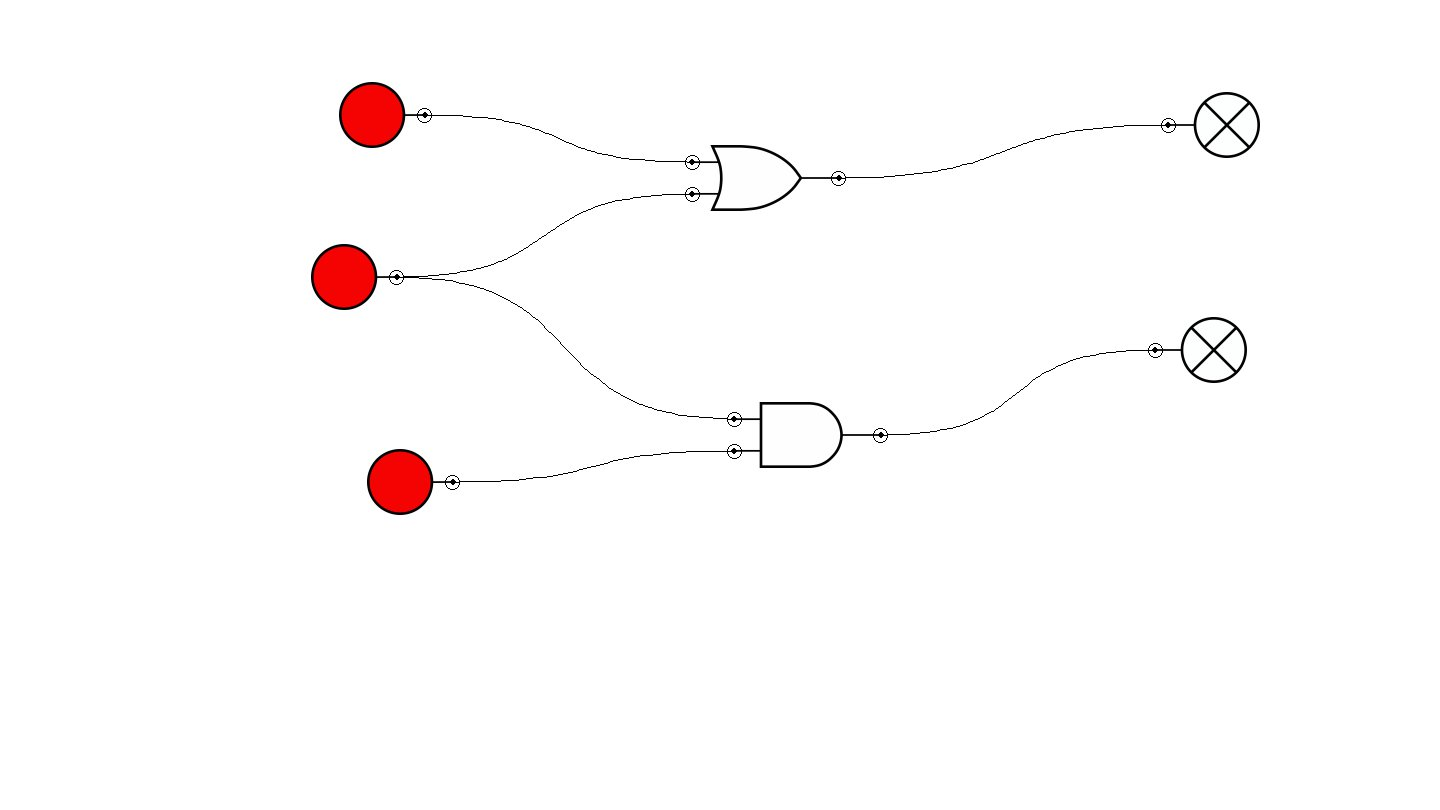and: (727, 402, 888, 468)
bulb: (1148, 317, 1247, 383), (1161, 92, 1260, 158)
or: (685, 145, 846, 211)
switch_False: (339, 82, 432, 148), (367, 449, 460, 515), (311, 244, 404, 310)
